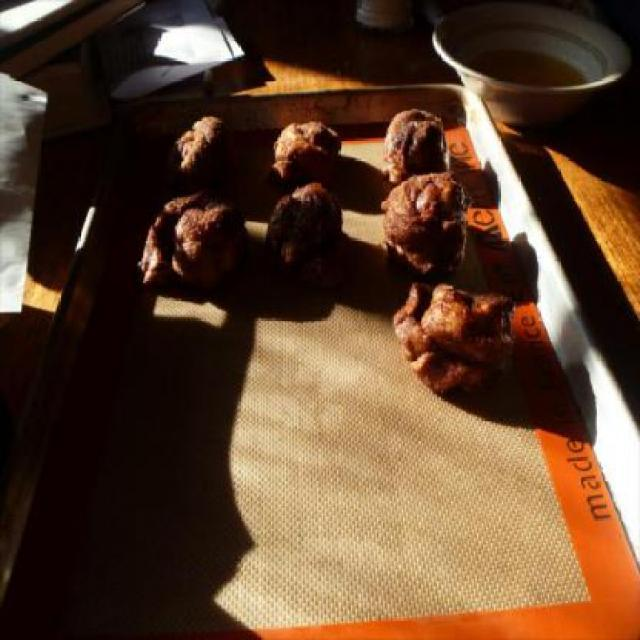Cookie: (392, 276, 518, 398), (133, 185, 250, 289), (376, 170, 472, 284), (258, 172, 342, 300), (264, 111, 344, 207), (382, 104, 452, 184), (178, 104, 238, 174)
